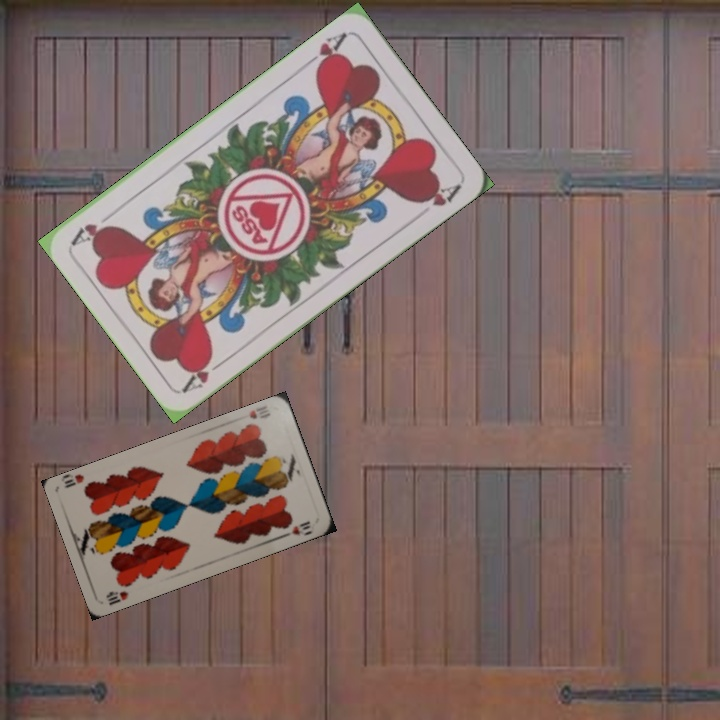H10: (102, 587, 131, 608), (245, 406, 273, 422)
HA: (299, 27, 350, 74), (179, 352, 231, 395)
